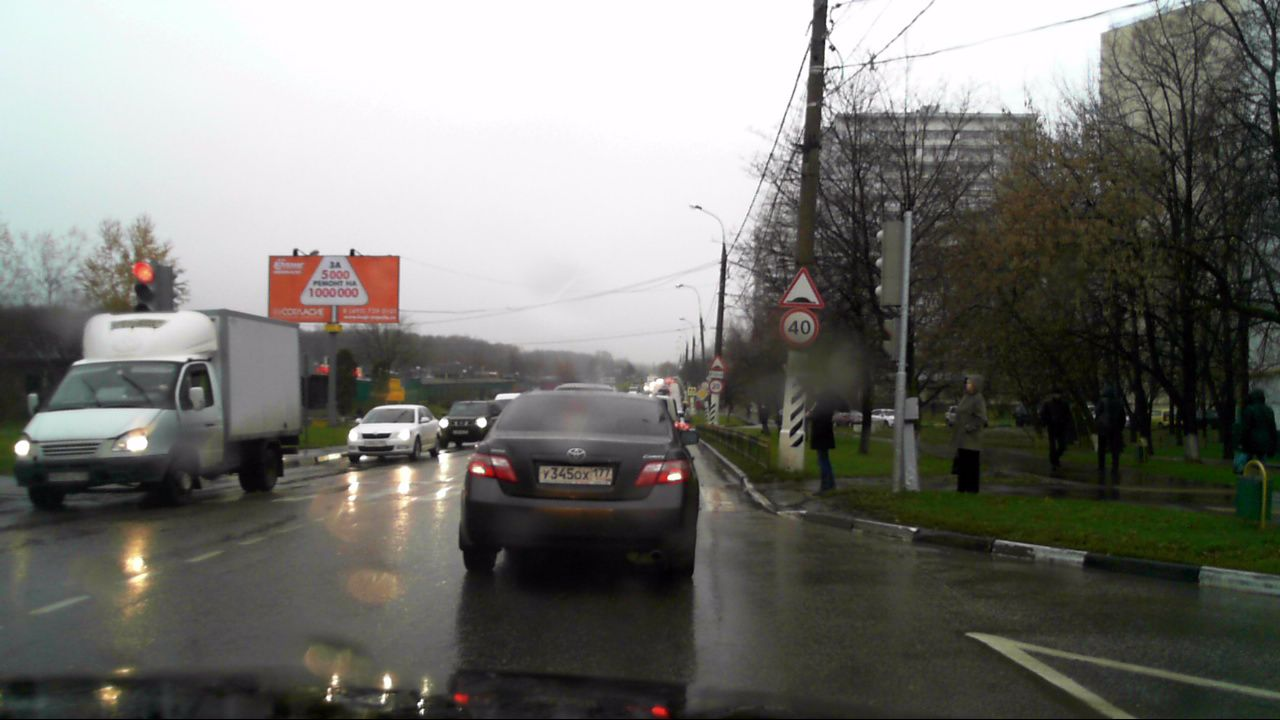speed_warning_40: (780, 309, 819, 347)
